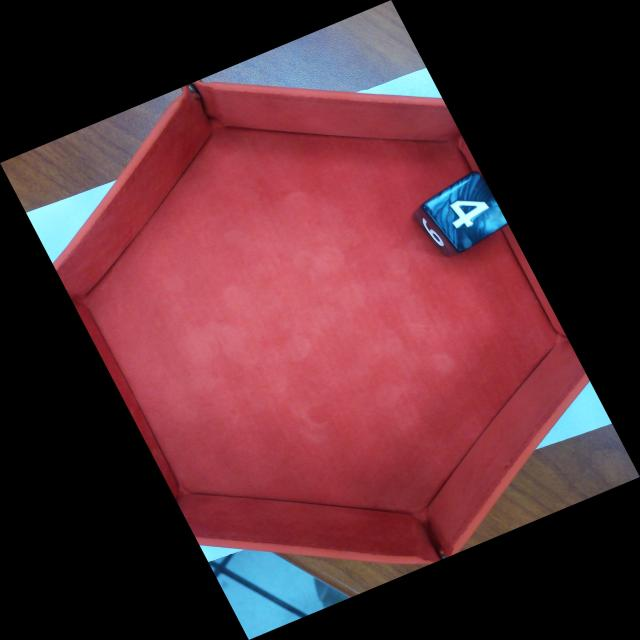dice: (421, 171, 508, 252)
